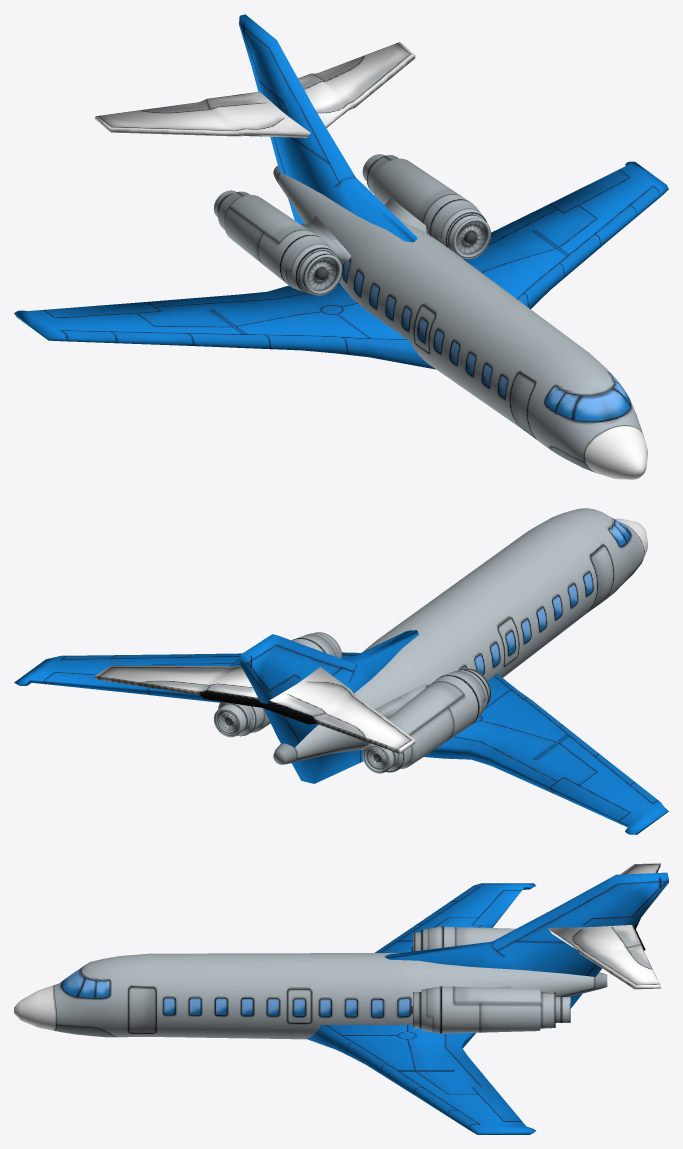
Rendered from tecoteco.glb.
3 renders of one model, top to bottom at view 1: azimuth 30°, elevation 25°; view 2: azimuth 150°, elevation 25°; view 3: azimuth 270°, elevation 25°, orthographic. The views are drawn at different scales.
Visible parts, largest first — view 1: Cylinder, asas, turbinas, asas_superiores, aerofolio, turbinas_asas; view 2: Cylinder, asas, asas_superiores, turbinas, aerofolio, turbinas_asas; view 3: Cylinder, asas, aerofolio, turbinas, asas_superiores.
Part boxes in pixels (box(x1,y1,x2,y2)): Cylinder: box(273, 165, 647, 479); asas: box(14, 161, 668, 369); turbinas: box(214, 154, 491, 295); asas_superiores: box(95, 42, 415, 137); aerofolio: box(239, 14, 417, 242); turbinas_asas: box(301, 198, 427, 263); Cylinder: box(273, 508, 647, 764); asas: box(14, 652, 668, 834); asas_superiores: box(95, 665, 415, 753); turbinas: box(214, 632, 491, 773); aerofolio: box(240, 630, 418, 783); turbinas_asas: box(375, 683, 425, 718); Cylinder: box(14, 953, 607, 1039); asas: box(306, 883, 535, 1134); aerofolio: box(384, 872, 668, 1008); turbinas: box(411, 926, 570, 1033); asas_superiores: box(548, 863, 660, 989).
Bounding box in the file's own units: 6.57 × 2 × 7.29.
Materials: 1 (1 with a texture image).
